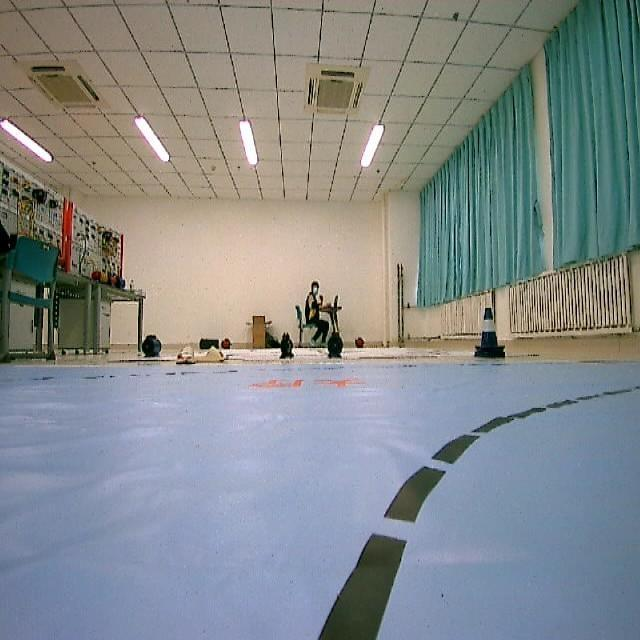obstacle: (470, 304, 504, 366)
